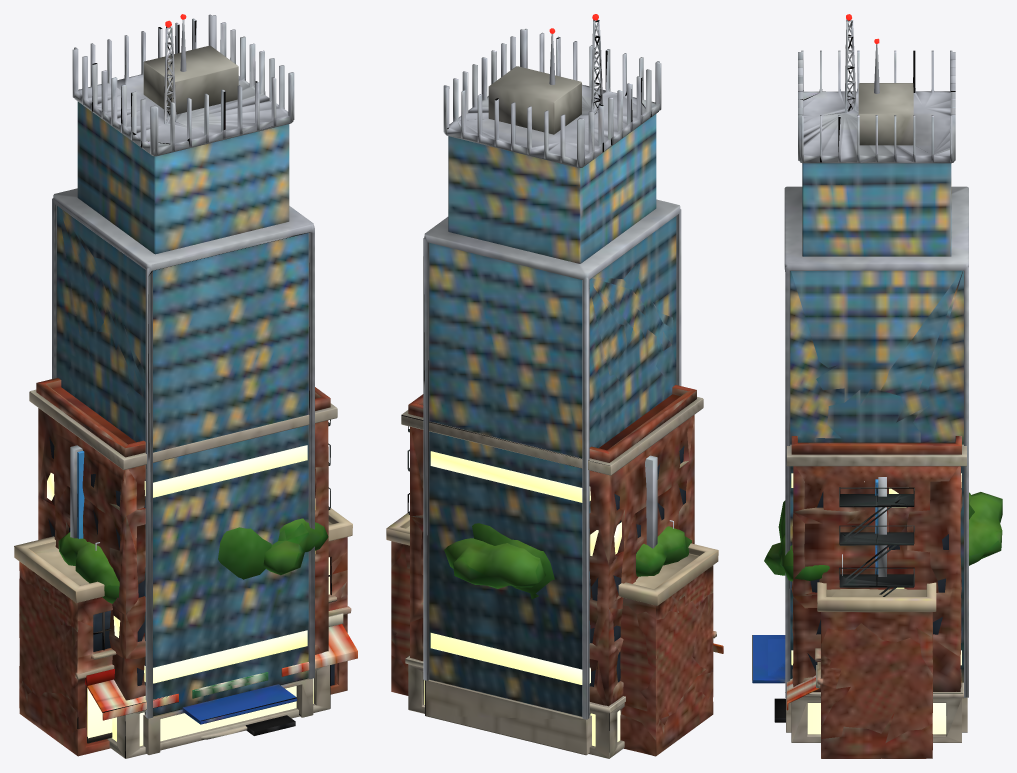
Rendered from modern_decor_metro.glb.
3 views of the same model, side by side, from view 1: azimuth 30°, elevation 25°; view 2: azimuth 150°, elevation 25°; view 3: azimuth 270°, elevation 25° (orthographic). The views are drawn at different scales.
Parts seen in each view (by area): view 1: Tower_A, MidRise, Shops, Tree_C, Tree_A, Billboard, Diner; view 2: Tower_A, MidRise, Shops, Tree_C, Tree_A, Billboard; view 3: Tower_A, MidRise, Shops, Tree_C, Billboard, Tower_B.
Boxes of the visible parts, left/top/right/bottom form: Tower_A: left=52, top=14, right=314, bottom=754; MidRise: left=29, top=377, right=337, bottom=758; Shops: left=14, top=508, right=357, bottom=756; Tree_C: left=58, top=518, right=328, bottom=603; Tree_A: left=218, top=527, right=271, bottom=579; Billboard: left=70, top=445, right=99, bottom=550; Diner: left=245, top=715, right=295, bottom=735; Tower_A: left=423, top=14, right=681, bottom=755; MidRise: left=401, top=385, right=703, bottom=758; Shops: left=386, top=511, right=723, bottom=756; Tree_C: left=444, top=526, right=691, bottom=588; Tree_A: left=472, top=523, right=554, bottom=598; Billboard: left=645, top=455, right=673, bottom=548; Tower_A: left=752, top=14, right=968, bottom=732; MidRise: left=786, top=436, right=966, bottom=742; Shops: left=786, top=582, right=936, bottom=758; Tree_C: left=764, top=492, right=1002, bottom=581; Billboard: left=842, top=477, right=886, bottom=576; Tower_B: left=768, top=38, right=879, bottom=675.
Bounding box in the file's own units: 3.28 × 8.06 × 2.69.
8 materials, 1 textured.
